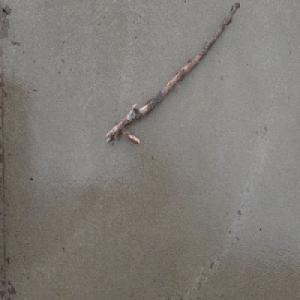Wood: (104, 1, 240, 147)
